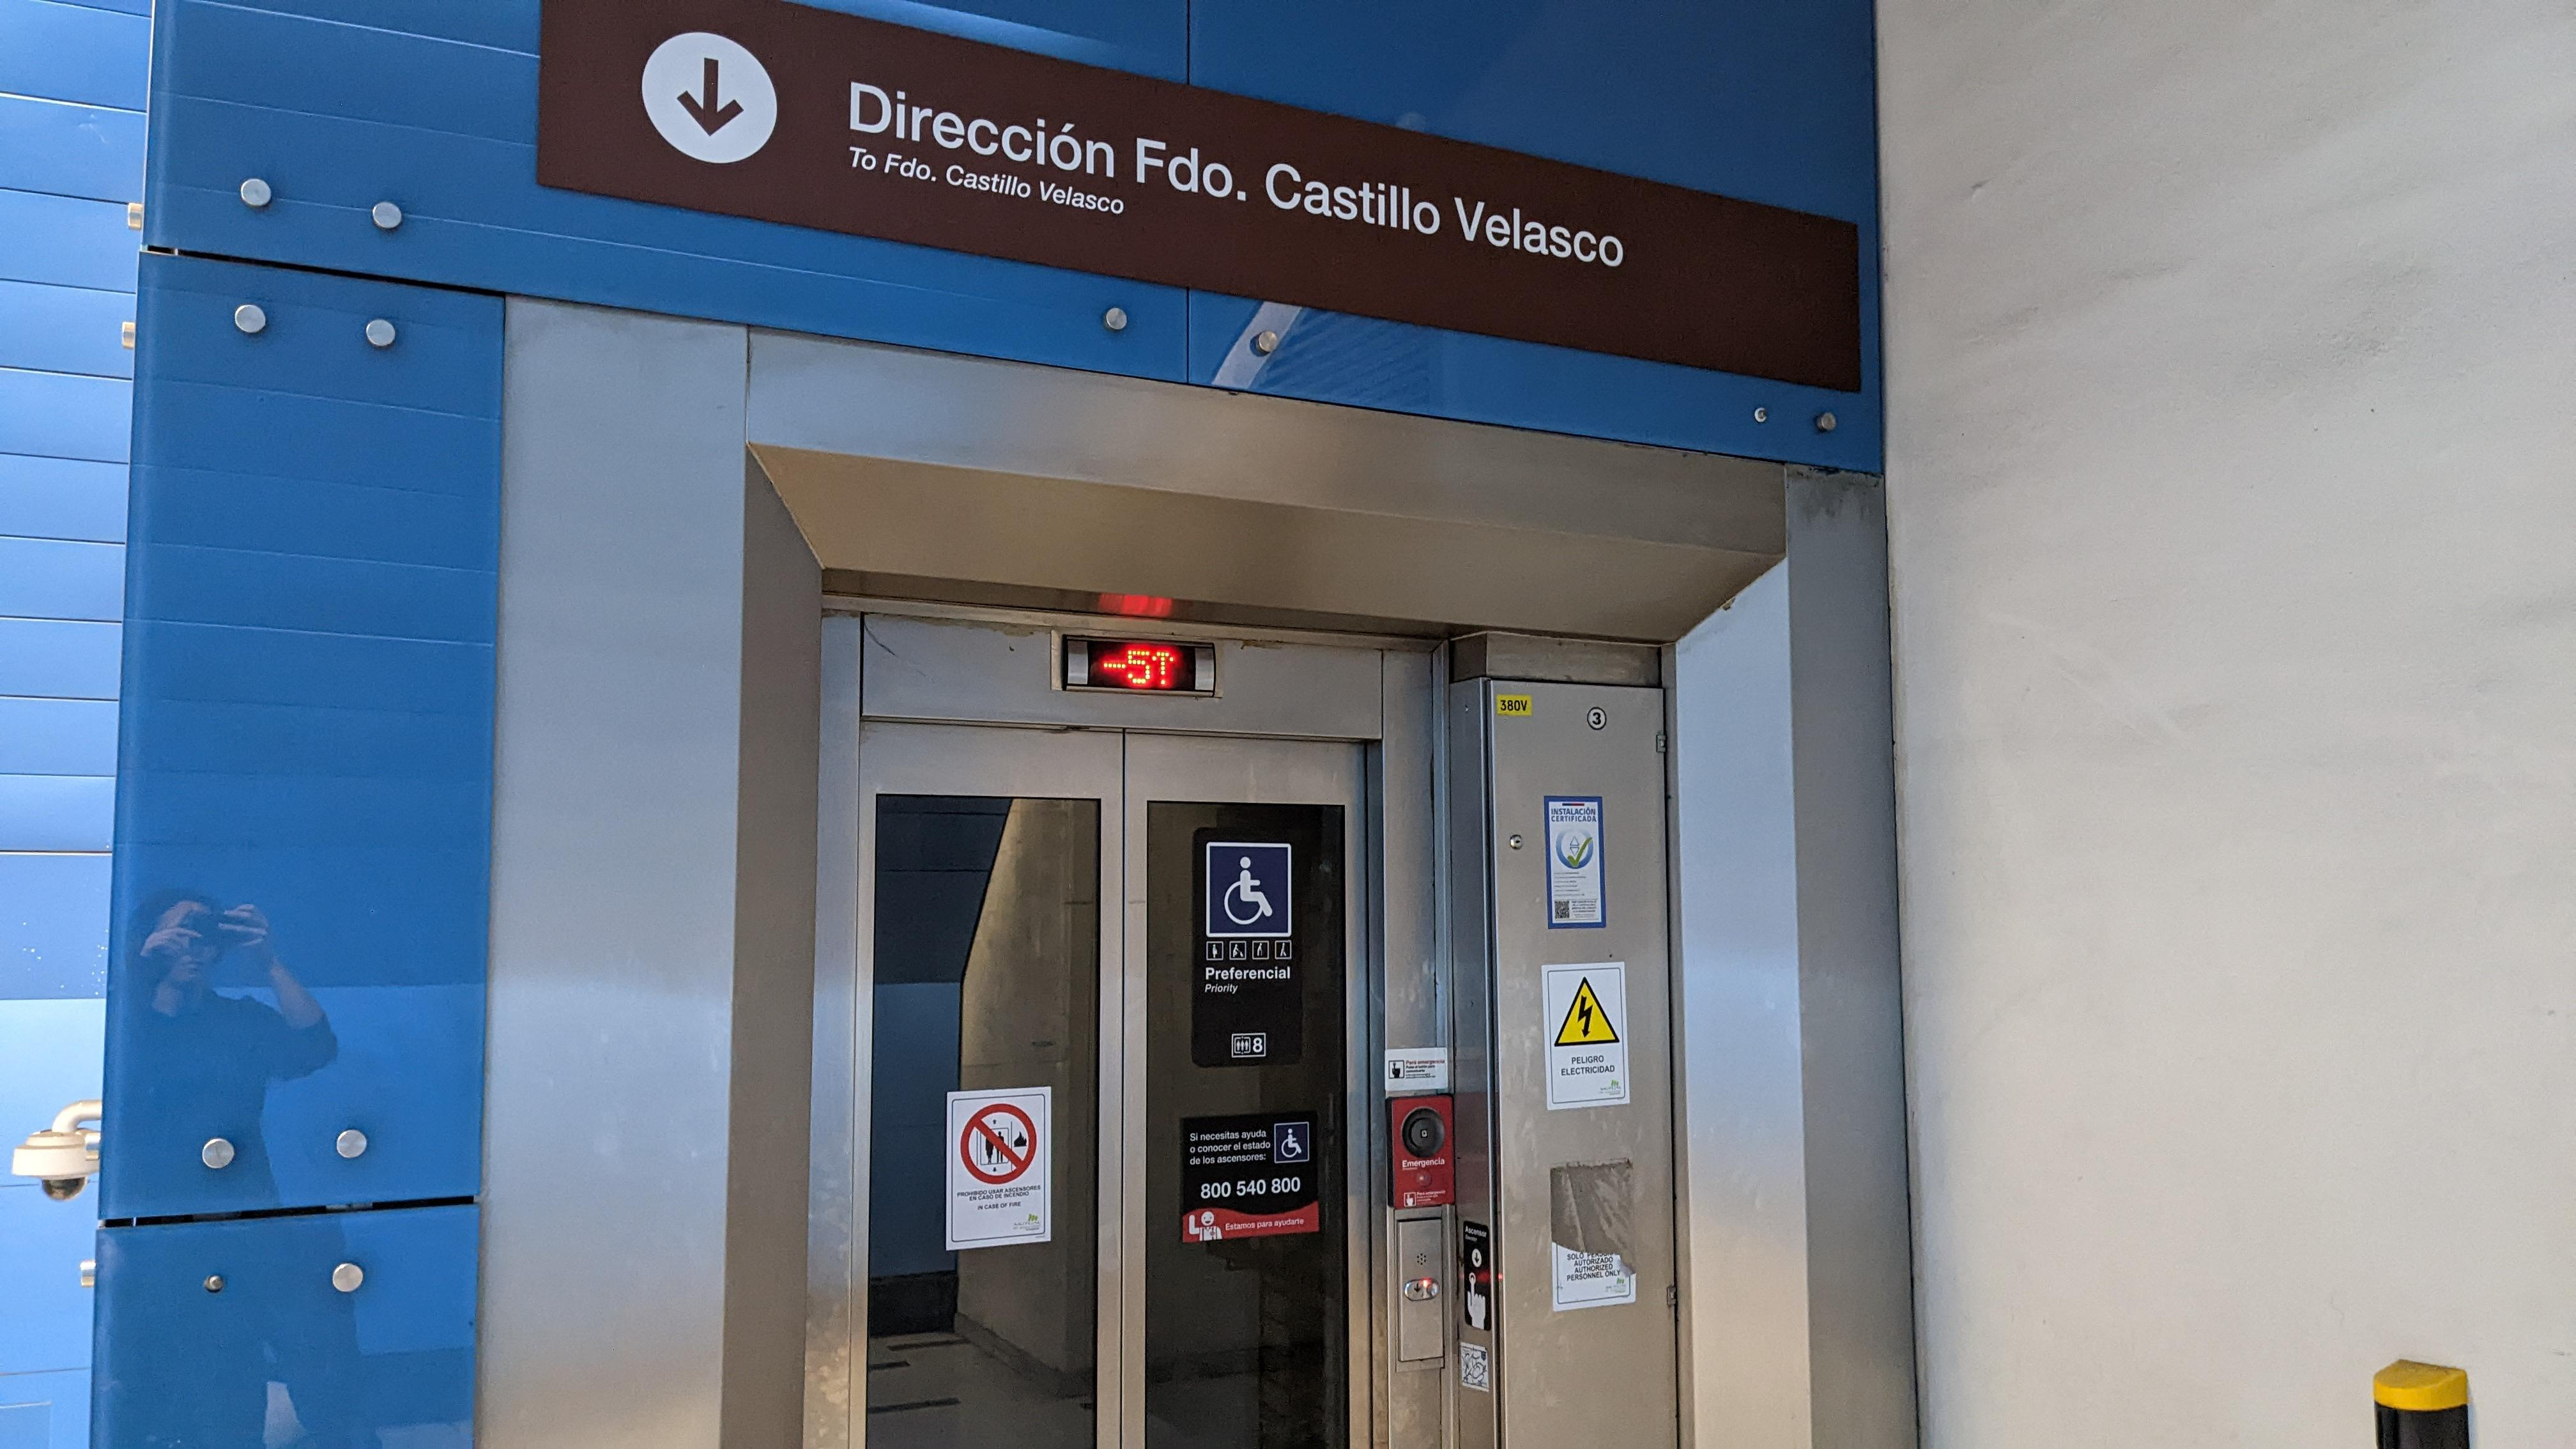danger-electricity: (1553, 975, 1621, 1047)
down arrow: (671, 48, 745, 142)
handicapped symbol: (1223, 855, 1274, 929), (1281, 1127, 1302, 1159)
